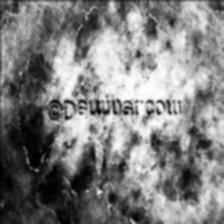Non-Cancerous Skin Condition: (4, 140, 202, 224), (22, 0, 138, 102)
